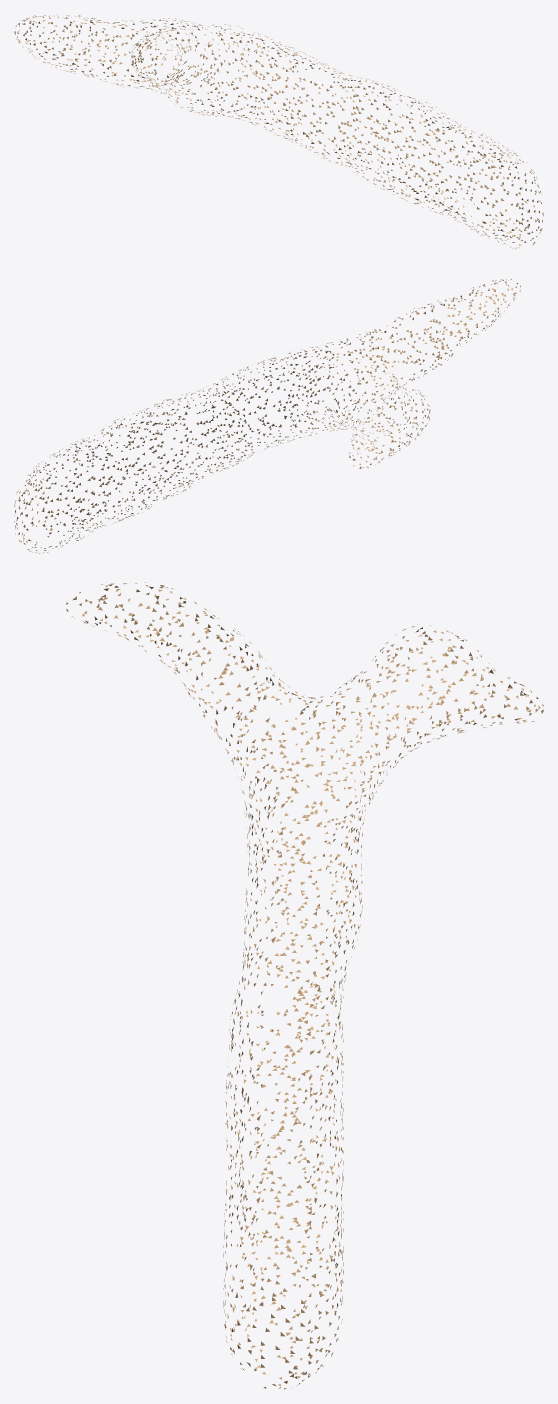
Rendered from morph_006.glb.
The picture shows the model from 3 angles, top to bottom: view 1: azimuth 30°, elevation 25°; view 2: azimuth 150°, elevation 25°; view 3: azimuth 270°, elevation 25°; orthographic projection. The views are drawn at different scales.
Size of the model in its own units: 118 by 82.89 by 78.7.
